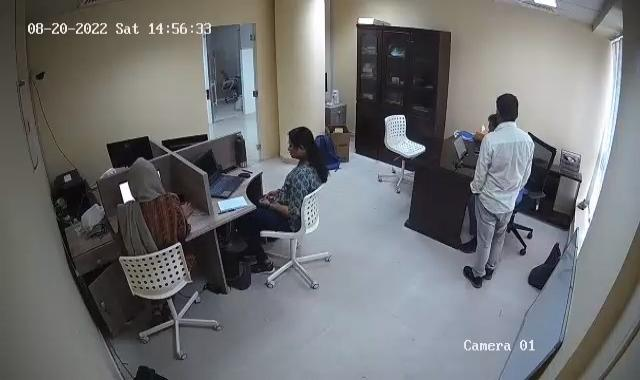no_hairnet: (126, 156, 162, 196), (287, 126, 315, 162), (496, 90, 519, 128)
